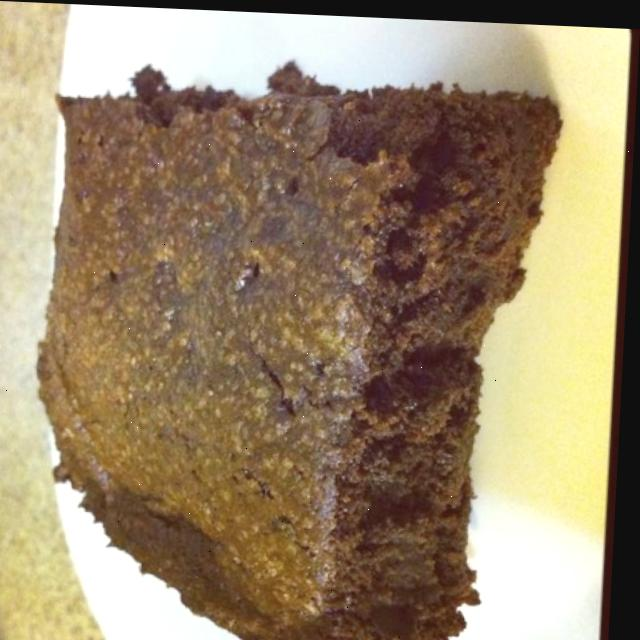蛋糕甜品: (0, 22, 583, 640)
